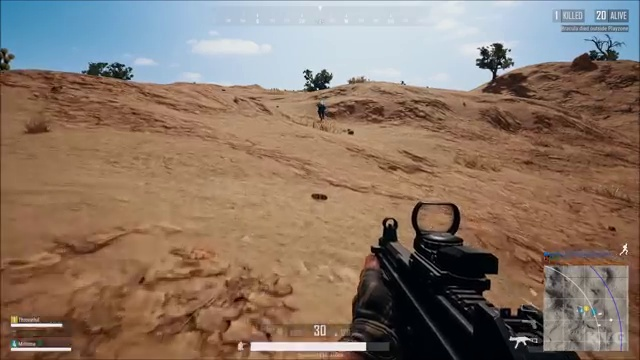Player: (303, 96, 336, 125)
